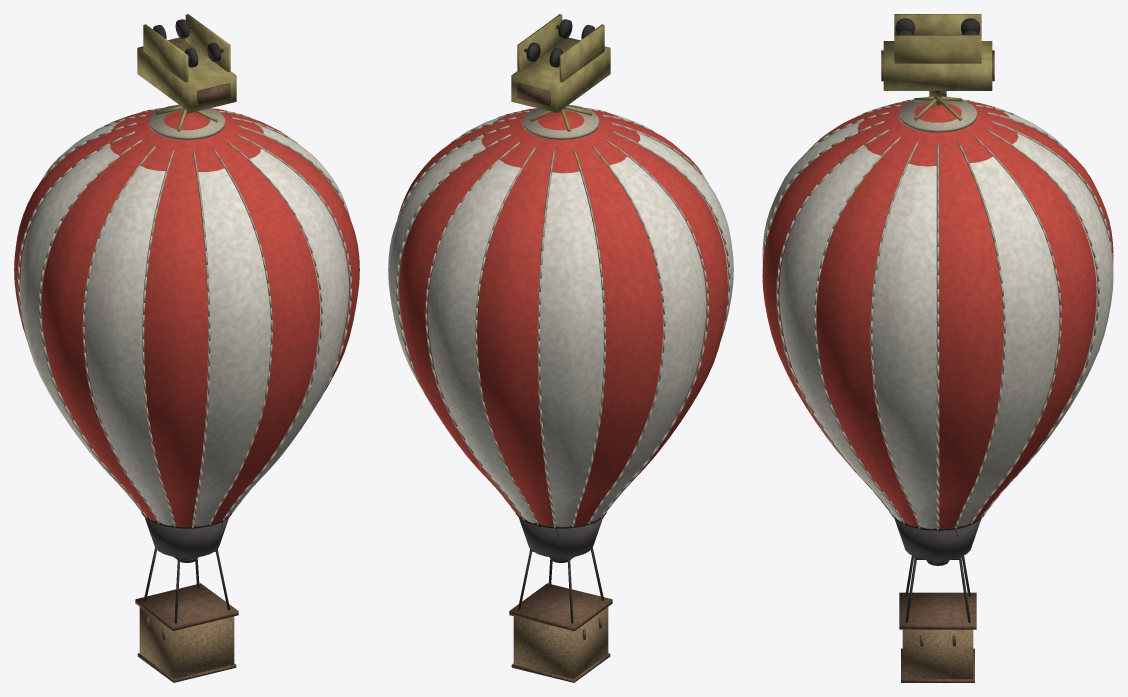
File: BalloonRail_Red.fbx
3 views of the same model, side by side, from view 1: azimuth 30°, elevation 25°; view 2: azimuth 150°, elevation 25°; view 3: azimuth 270°, elevation 25° (orthographic). The views are drawn at different scales.
Visible parts, largest first — view 1: Swing_S_Envelope_Red, Swing_S_EnvelopeStripe_Red, Swing_S_Rope, Static_S_Bogie, Swing_S_Wicker, Swing_S_Leather, Swing_S_SkirtDark, Swing_S_SteelWorn, Static_S_SteelWorn, Static_S_Leather; view 2: Swing_S_Envelope_Red, Swing_S_EnvelopeStripe_Red, Swing_S_Rope, Static_S_Bogie, Swing_S_Wicker, Swing_S_Leather, Swing_S_SkirtDark, Swing_S_SteelWorn, Static_S_SteelWorn, Static_S_Leather; view 3: Swing_S_Envelope_Red, Swing_S_EnvelopeStripe_Red, Swing_S_Rope, Static_S_Bogie, Swing_S_Wicker, Swing_S_Leather, Swing_S_SkirtDark, Swing_S_SteelWorn, Static_S_SteelWorn.
Part boxes in pixels (x1,y1,x2,y2): Swing_S_Envelope_Red: [14, 108, 359, 527]; Swing_S_EnvelopeStripe_Red: [20, 111, 350, 526]; Swing_S_Rope: [17, 104, 351, 527]; Static_S_Bogie: [137, 14, 236, 112]; Swing_S_Wicker: [139, 607, 234, 678]; Swing_S_Leather: [135, 583, 238, 682]; Swing_S_SkirtDark: [145, 518, 228, 557]; Swing_S_SteelWorn: [141, 512, 231, 623]; Static_S_SteelWorn: [153, 19, 223, 67]; Static_S_Leather: [197, 83, 230, 105]; Swing_S_Envelope_Red: [397, 108, 727, 526]; Swing_S_EnvelopeStripe_Red: [388, 113, 733, 527]; Swing_S_Rope: [396, 104, 730, 527]; Static_S_Bogie: [511, 14, 610, 112]; Swing_S_Wicker: [513, 607, 608, 678]; Swing_S_Leather: [509, 583, 612, 682]; Swing_S_SkirtDark: [519, 518, 602, 557]; Swing_S_SteelWorn: [516, 512, 606, 623]; Static_S_SteelWorn: [524, 19, 594, 67]; Static_S_Leather: [517, 83, 550, 105]; Swing_S_Envelope_Red: [762, 101, 1113, 528]; Swing_S_EnvelopeStripe_Red: [762, 103, 1113, 528]; Swing_S_Rope: [763, 96, 1112, 529]; Static_S_Bogie: [883, 14, 992, 96]; Swing_S_Wicker: [902, 629, 973, 679]; Swing_S_Leather: [899, 592, 976, 682]; Swing_S_SkirtDark: [894, 519, 981, 560]; Swing_S_SteelWorn: [891, 515, 984, 622]; Static_S_SteelWorn: [895, 18, 980, 92].
Bounding box in the file's own units: 6.45 × 13.03 × 6.45.
